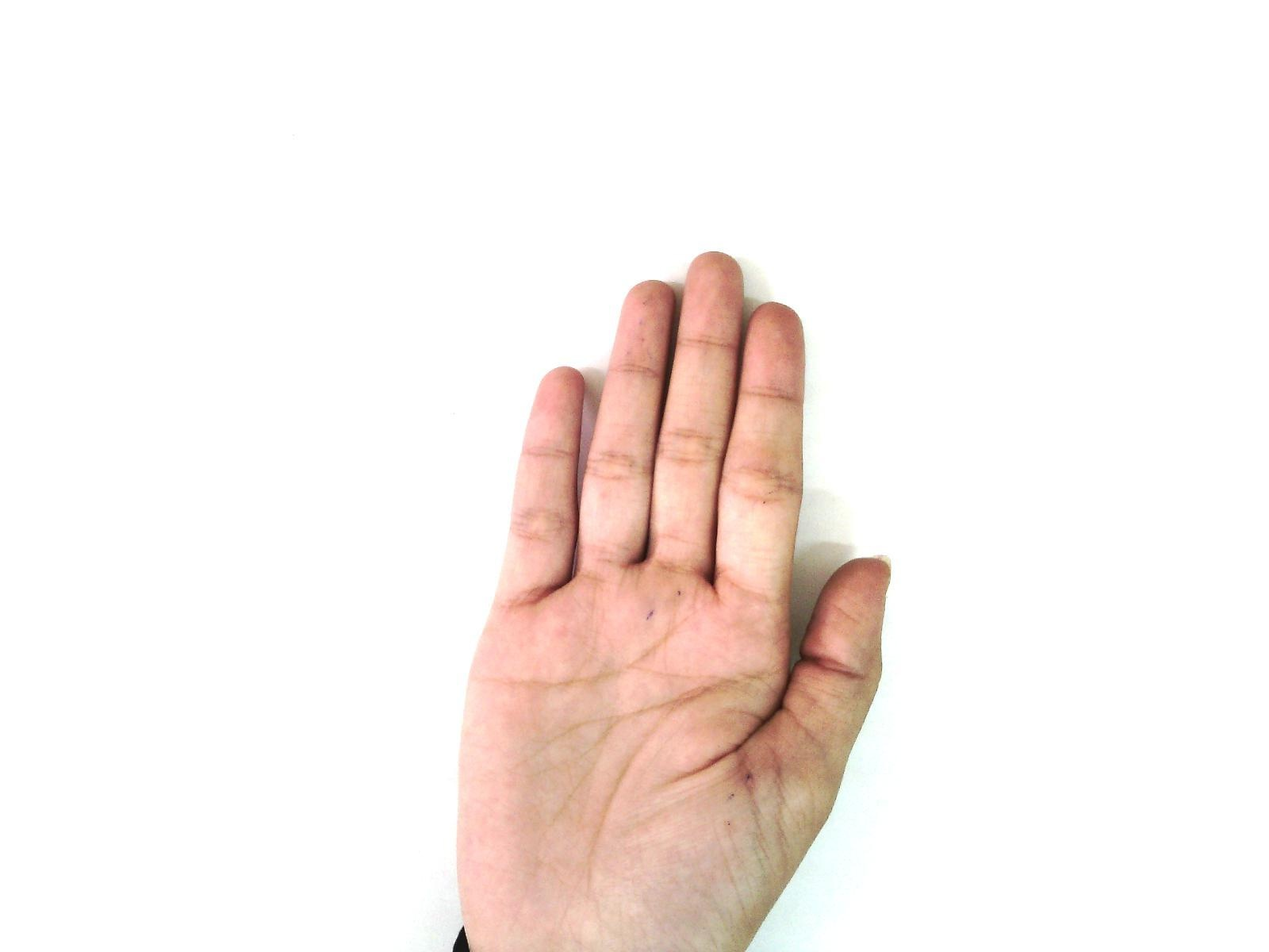open_palm: (451, 251, 895, 951)
